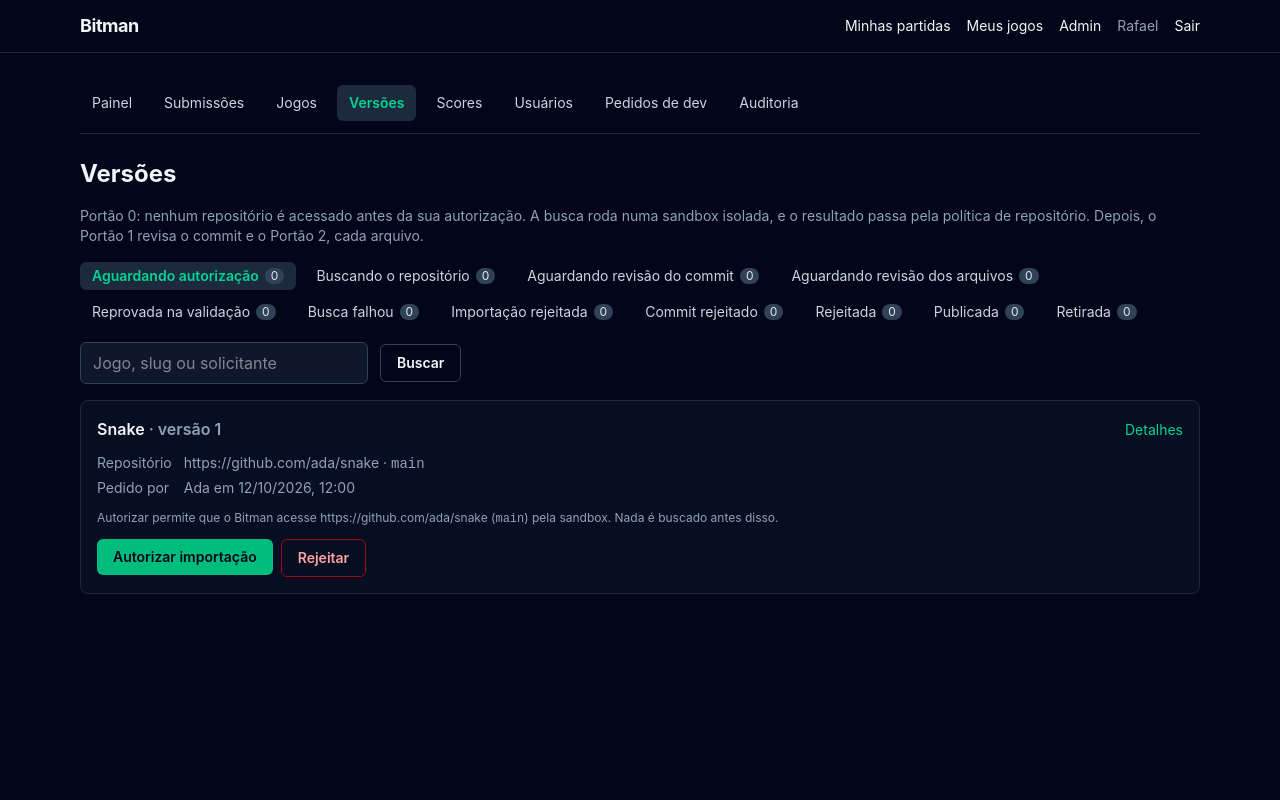
Test: VersionsPage › mostra a fila do Portão 0 e autoriza a importação
Check: the text "Nada é buscado antes disso" is shown, box 524,510 -> 778,525
Click the button "Autorizar importação".
click(185, 557)  # box 97,539 -> 273,575
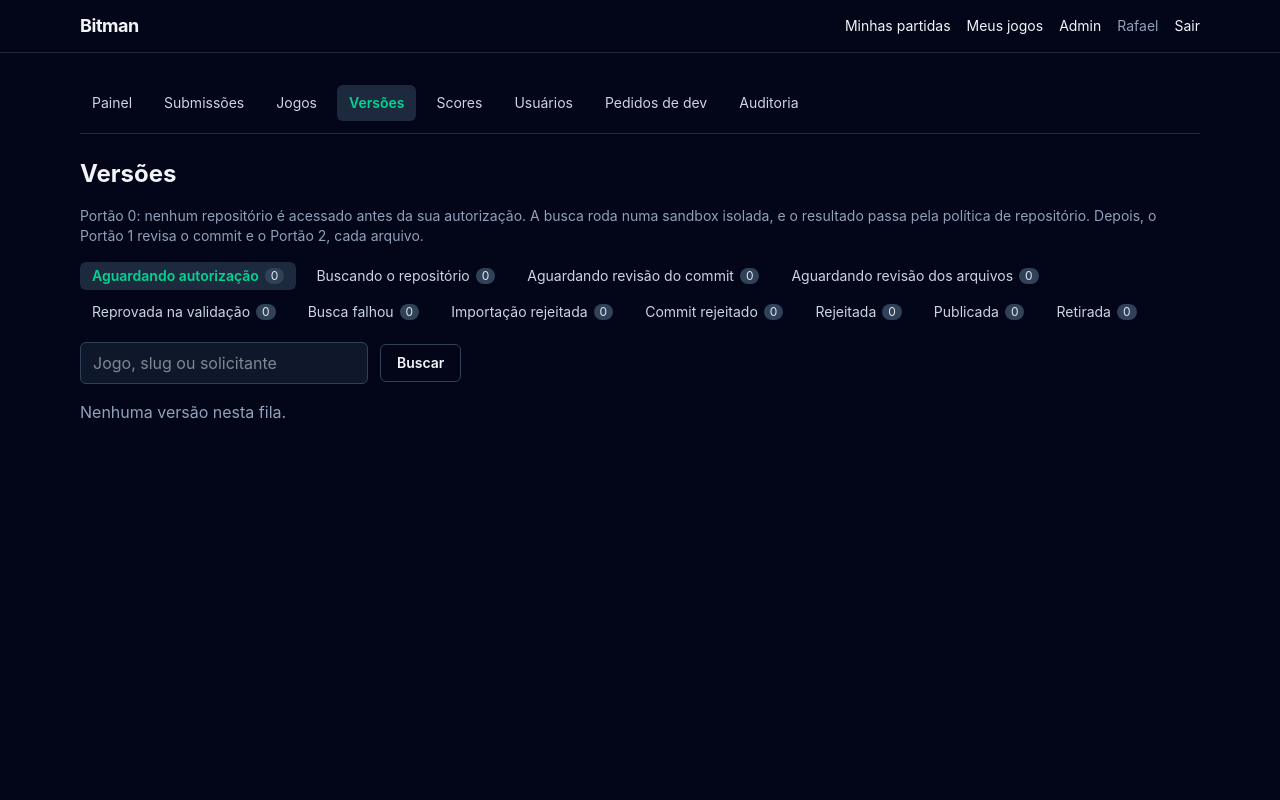
Check: the text "Nenhuma versão nesta fila." is shown, box 80,402 -> 286,422
